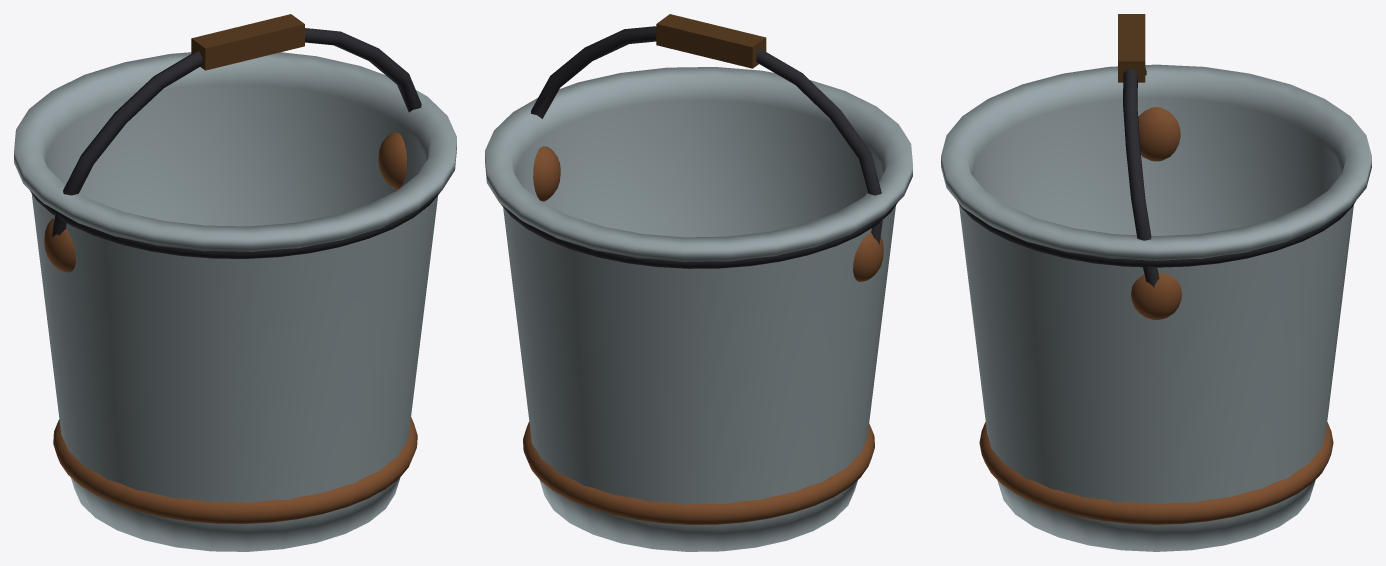
Rendered from mia-bucket.glb.
The picture shows the model from 3 angles, left to right: view 1: azimuth 30°, elevation 25°; view 2: azimuth 150°, elevation 25°; view 3: azimuth 270°, elevation 25°; orthographic projection. The views are drawn at different scales.
Visible parts, largest first — view 1: Body_steel, Body_rust, Body_iron, Body_wood; view 2: Body_steel, Body_rust, Body_iron, Body_wood; view 3: Body_steel, Body_rust, Body_iron, Body_wood.
Boxes of the visible parts, box(x1,y1,x2,y2) form: Body_steel: box(14, 52, 456, 551); Body_rust: box(44, 132, 417, 524); Body_iron: box(30, 28, 440, 258); Body_wood: box(191, 14, 304, 70); Body_steel: box(485, 67, 912, 551); Body_rust: box(523, 146, 883, 525); Body_iron: box(501, 26, 897, 268); Body_wood: box(656, 14, 766, 68); Body_steel: box(941, 64, 1371, 551); Body_rust: box(979, 107, 1333, 524); Body_iron: box(957, 67, 1355, 287); Body_wood: box(1118, 14, 1145, 82).
Bounding box in the file's own units: 0.382 × 0.4385 × 0.382.
